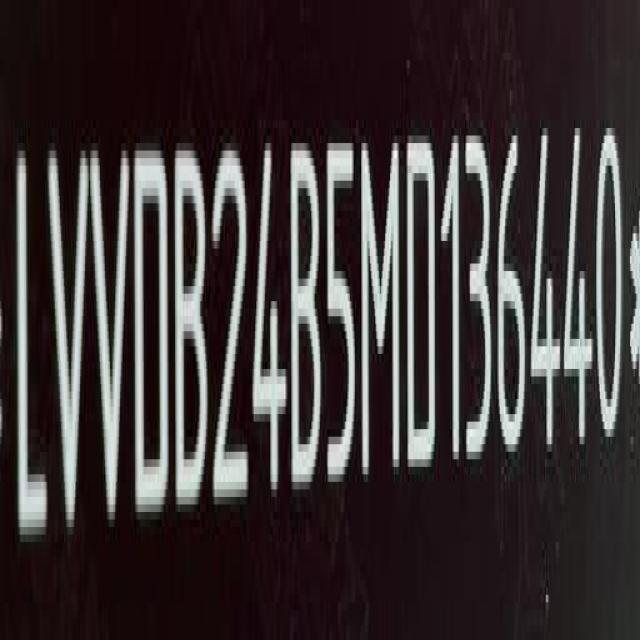0: (597, 125, 624, 459)
1: (441, 117, 460, 482)
2: (212, 143, 250, 518)
3: (462, 128, 492, 476)
4: (253, 140, 289, 516), (530, 126, 561, 466), (562, 119, 591, 460)
5: (326, 135, 358, 499)
6: (499, 127, 529, 469)
B: (177, 143, 214, 525), (294, 137, 326, 502)
D: (132, 140, 170, 531), (407, 129, 440, 484)
L: (15, 142, 48, 560)
M: (363, 130, 405, 492)
V: (48, 138, 89, 548), (92, 138, 132, 540)
